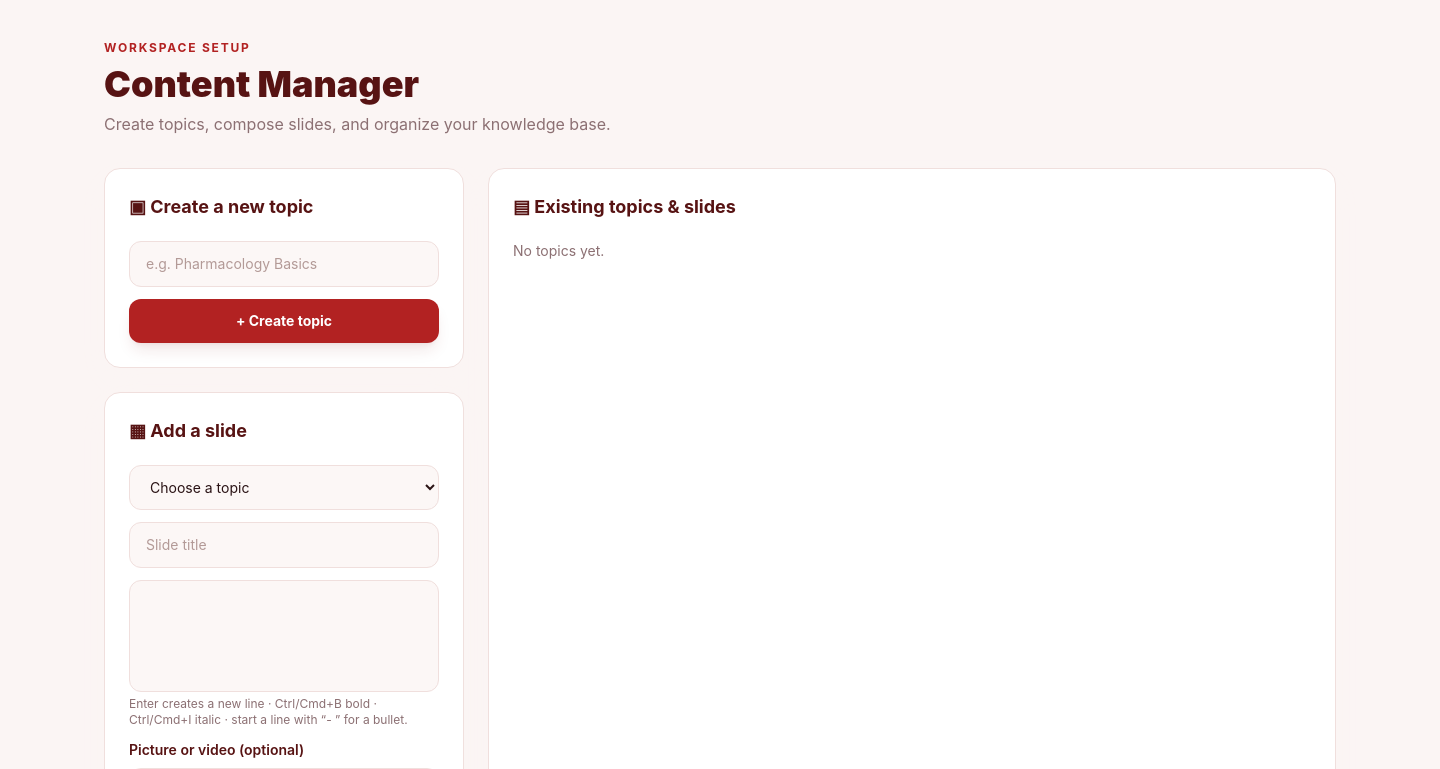
Test: AdminPage › creates a topic
Type "Biology" into the field with placeholder "e.g. Pharmacology Basics" at (284, 264), box [129,241,439,287]
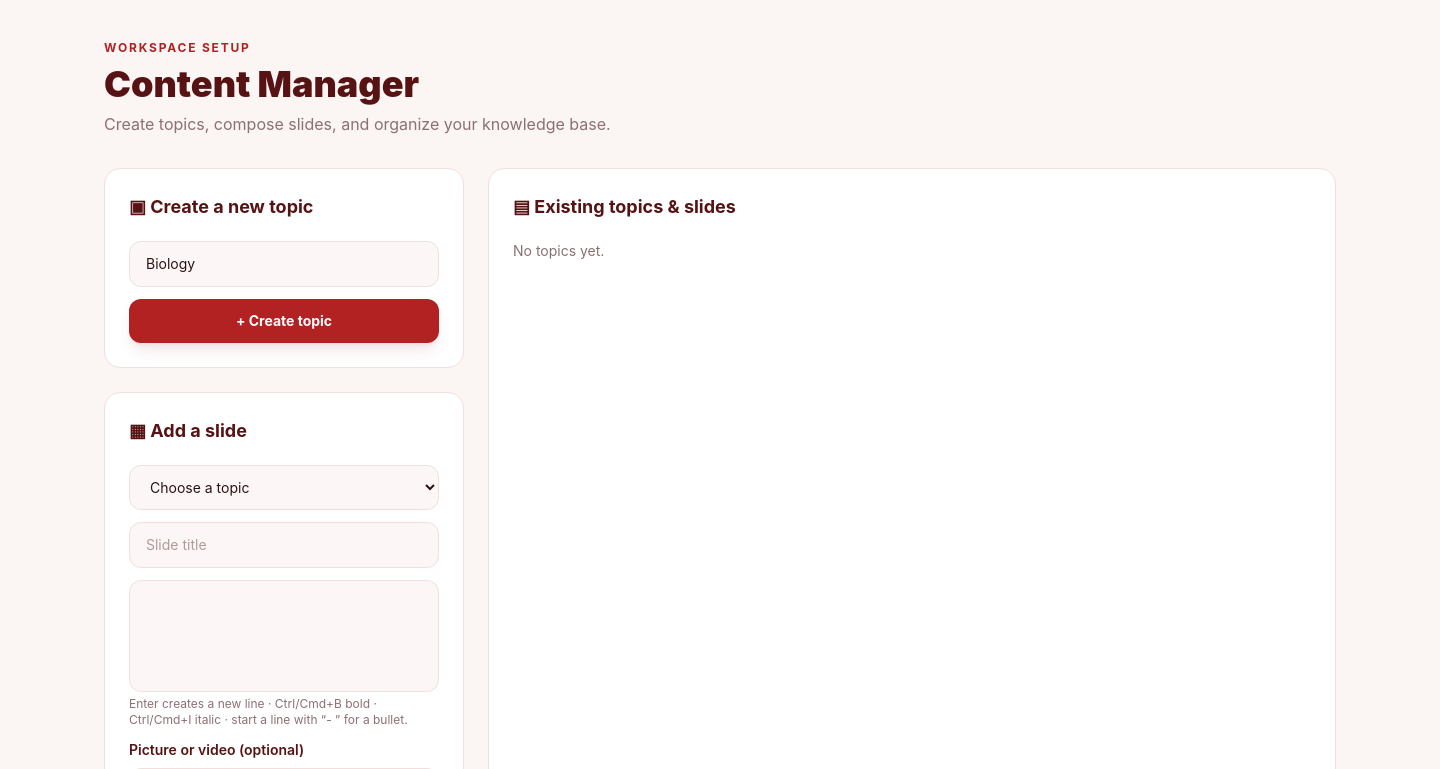
Click the button "+ Create topic" at (284, 321), box [129,299,439,343]
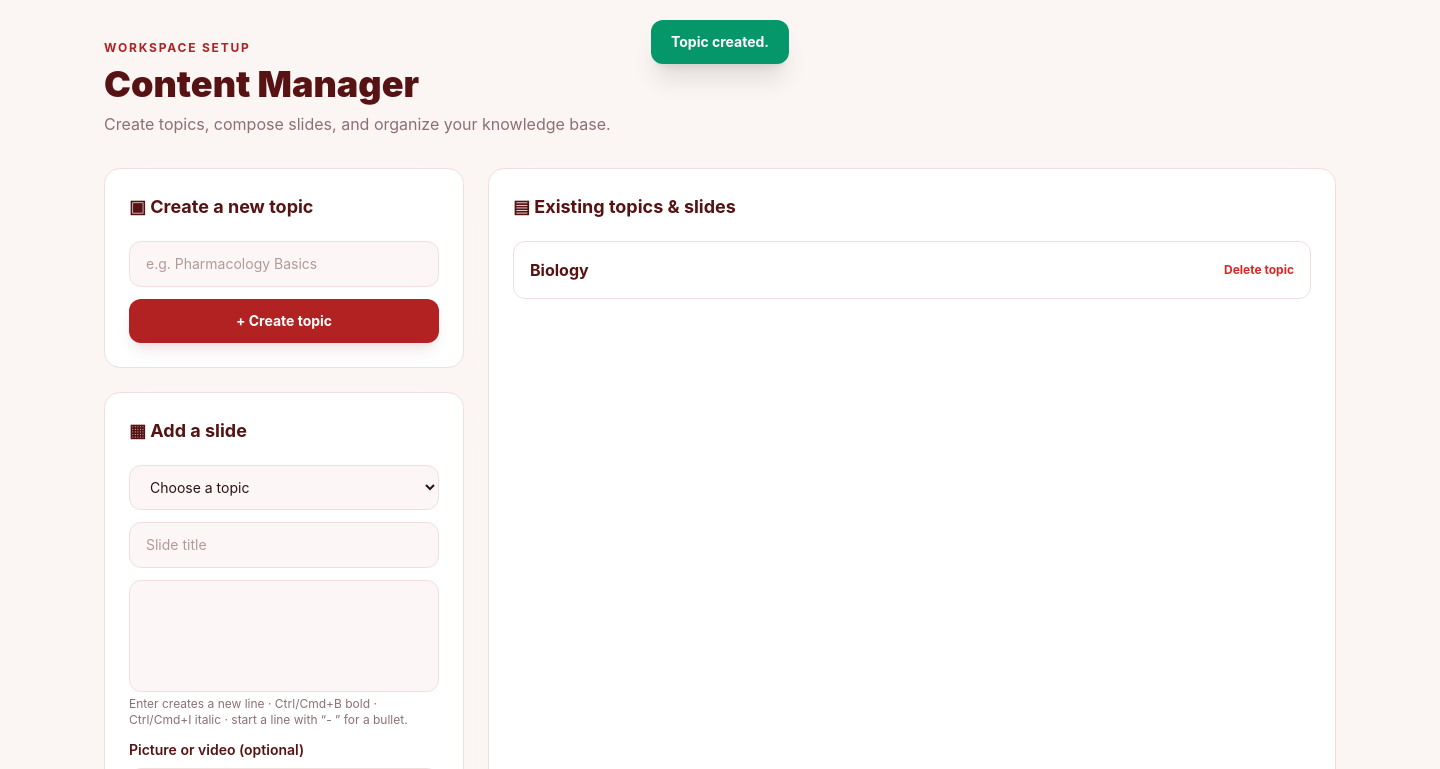
Check: the heading "Biology" is shown, box [530,258,589,282]
